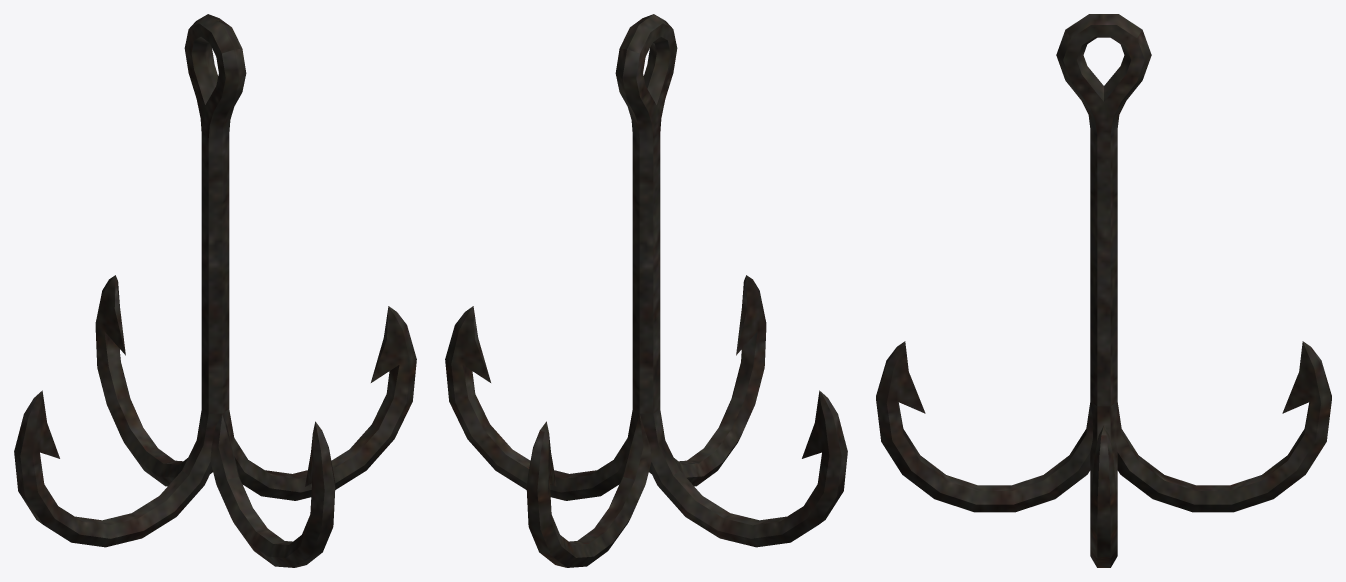
The model's file is fishing_hook_mx_2.obj.
3 renders of one model, left to right at view 1: azimuth 30°, elevation 25°; view 2: azimuth 150°, elevation 25°; view 3: azimuth 270°, elevation 25°, orthographic.
Visible parts, largest first — view 1: fishing_hook_mx_2; view 2: fishing_hook_mx_2; view 3: fishing_hook_mx_2.
Part boxes in pixels (bbox=[...]): fishing_hook_mx_2: bbox=[14, 14, 416, 567]; fishing_hook_mx_2: bbox=[445, 14, 847, 567]; fishing_hook_mx_2: bbox=[876, 14, 1331, 567].
Bounding box in the file's own units: 0.334 × 0.4006 × 0.334.
